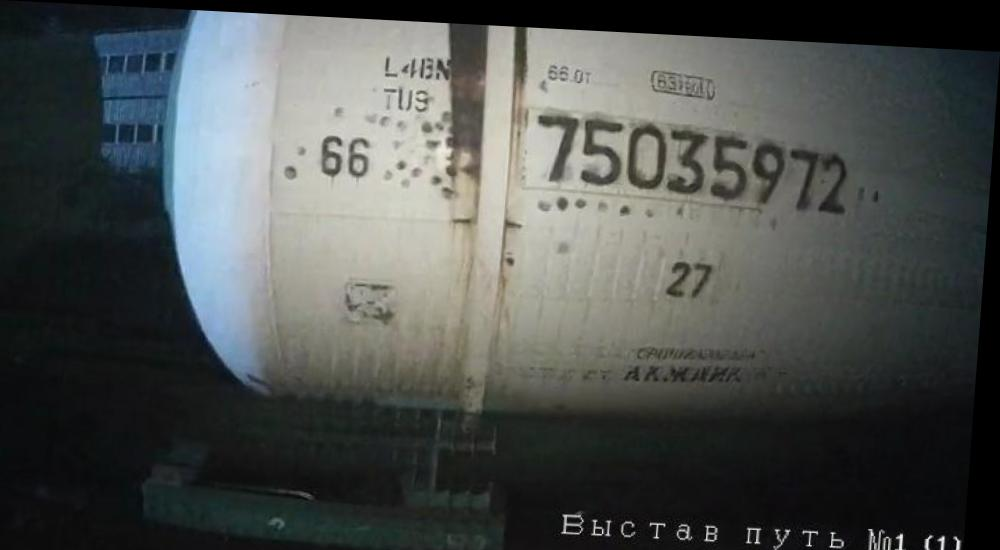Wagon-number: (528, 102, 859, 210)
